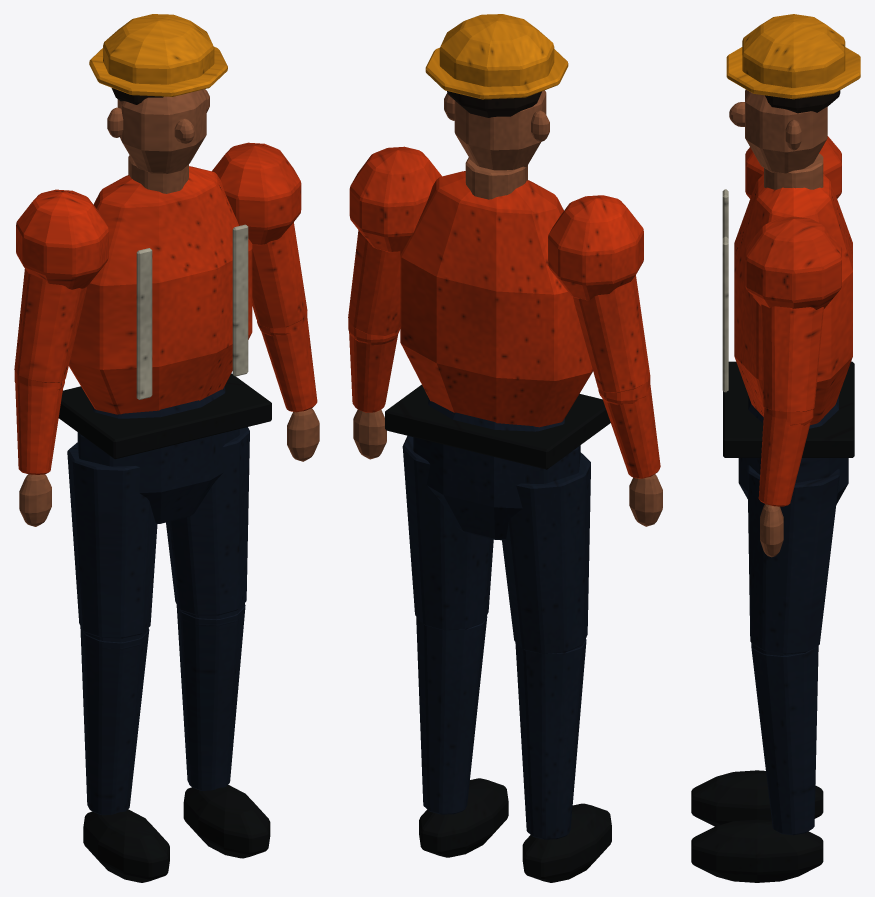
File: PROP-551DA44848C9_lod1.glb
3 views of the same model, side by side, from view 1: azimuth 30°, elevation 25°; view 2: azimuth 150°, elevation 25°; view 3: azimuth 270°, elevation 25° (orthographic). The views are drawn at different scales.
Parts seen in each view (by area): view 1: torso.025, thigh.024, calf.024, shoulder.025, upper_arm.025, shoe.024, belt.024, pelvis.024, forearm.025, hardhat.001, head.024, vest_reflective_tape.001 (+5 smaller); view 2: torso.025, thigh.024, calf.024, shoulder.025, upper_arm.025, pelvis.024, shoe.024, belt.024, hardhat.001, forearm.025, head.024, hand.024 (+5 smaller); view 3: thigh.024, torso.025, shoe.024, calf.024, shoulder.025, hardhat.001, upper_arm.025, belt.024, head.024, forearm.025, hardhat_brim.001, pelvis.024 (+6 smaller).
Part boxes in pixels (box(x1,y1,x2,y2)): torso.025: box(69, 166, 252, 414); thigh.024: box(67, 427, 249, 638); calf.024: box(80, 604, 245, 815); shoulder.025: box(16, 142, 301, 289); upper_arm.025: box(14, 222, 307, 382); shoe.024: box(83, 785, 270, 882); belt.024: box(58, 373, 271, 459); pelvis.024: box(77, 386, 239, 523); forearm.025: box(15, 318, 317, 474); hardhat.001: box(103, 14, 214, 84); head.024: box(117, 89, 206, 174); vest_reflective_tape.001: box(136, 224, 248, 399); torso.025: box(400, 171, 592, 427); thigh.024: box(402, 435, 590, 654); calf.024: box(416, 616, 586, 839); shoulder.025: box(349, 146, 643, 300); upper_arm.025: box(348, 230, 650, 392); pelvis.024: box(413, 398, 580, 540); shoe.024: box(419, 778, 611, 882); belt.024: box(385, 384, 610, 469); hardhat.001: box(439, 14, 554, 86); forearm.025: box(349, 332, 660, 478); head.024: box(454, 90, 546, 170); hand.024: box(353, 409, 662, 526); thigh.024: box(747, 465, 839, 654); torso.025: box(734, 174, 852, 425); shoe.024: box(691, 770, 823, 882); calf.024: box(751, 643, 818, 835); shoulder.025: box(745, 136, 841, 309); hardhat.001: box(742, 14, 845, 87); upper_arm.025: box(761, 304, 823, 411); belt.024: box(723, 361, 854, 457); head.024: box(745, 89, 827, 173); forearm.025: box(758, 409, 810, 506); hardhat_brim.001: box(726, 47, 860, 99); pelvis.024: box(738, 396, 848, 504).
Bounding box in the file's own units: 0.7126 × 1.89 × 0.3486.
Materials: 7 (7 with a texture image).
